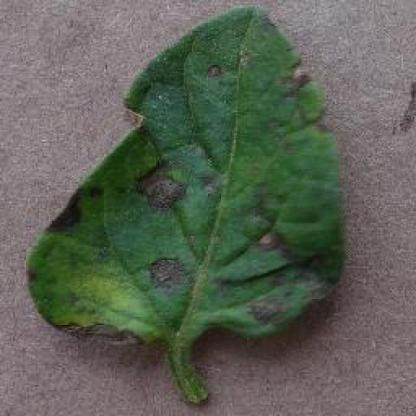Tomato_Blight: (26, 9, 335, 340)
